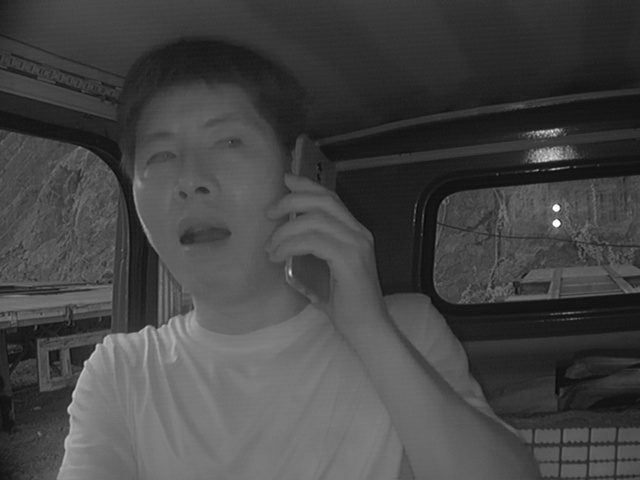hand: (265, 171, 384, 336)
